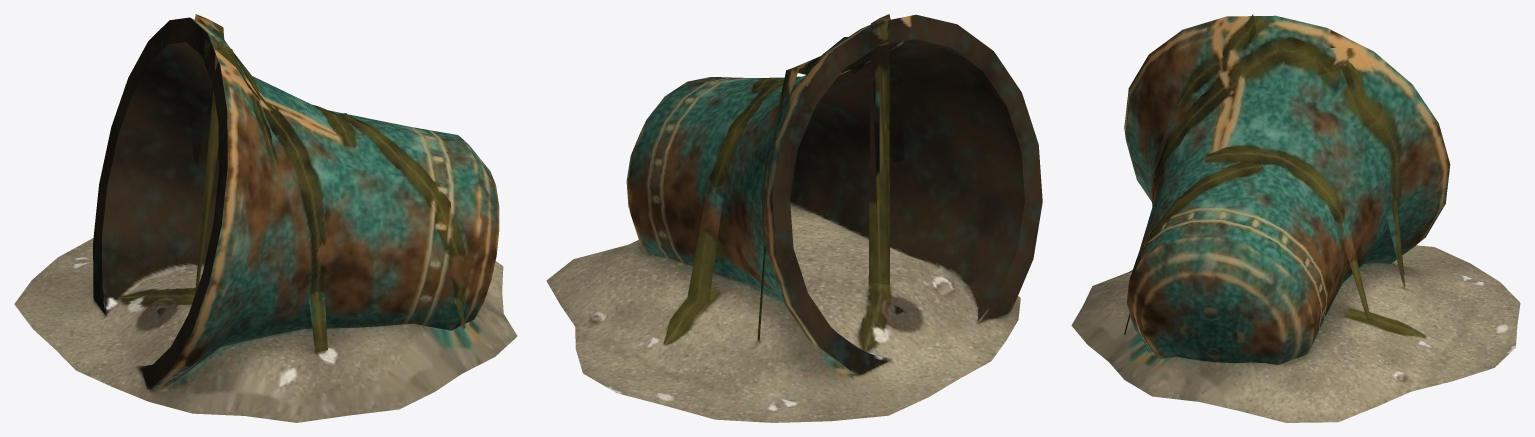
File: drowned_bell.glb
3 views of the same model, side by side, from view 1: azimuth 30°, elevation 25°; view 2: azimuth 150°, elevation 25°; view 3: azimuth 270°, elevation 25° (orthographic). The views are drawn at different scales.
Visible parts, largest first — view 1: drowned_bell; view 2: drowned_bell; view 3: drowned_bell.
Part boxes in pixels (x1,y1,x2,y2): drowned_bell: (14, 14, 517, 422); drowned_bell: (546, 14, 1042, 422); drowned_bell: (1071, 14, 1520, 422).
Bounding box in the file's own units: 2.04 × 1.52 × 2.09.
Materials: 1 (1 with a texture image).
